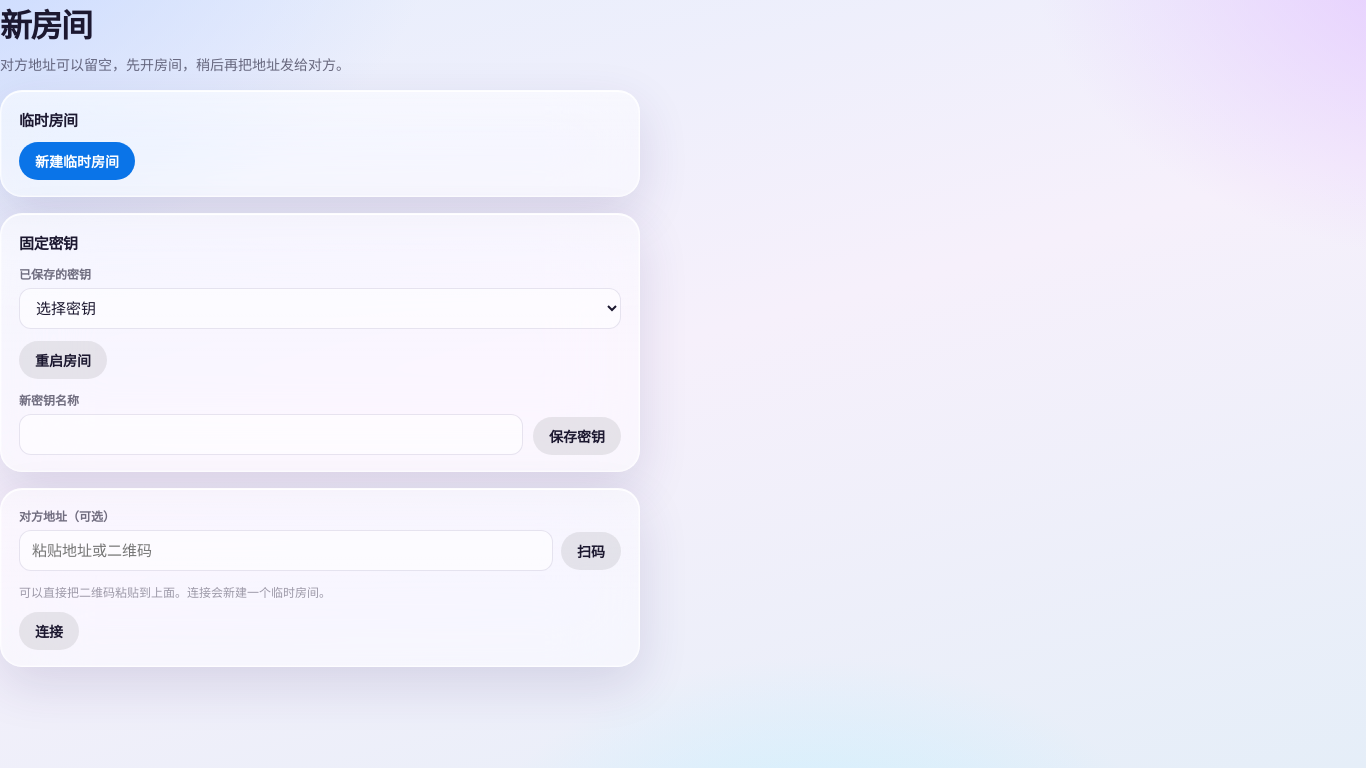
Test: lobby peer paste › accepts a Tailcat address pasted from the scan dialog
Click the button "扫码" at (591, 550), box [561,532,621,570]
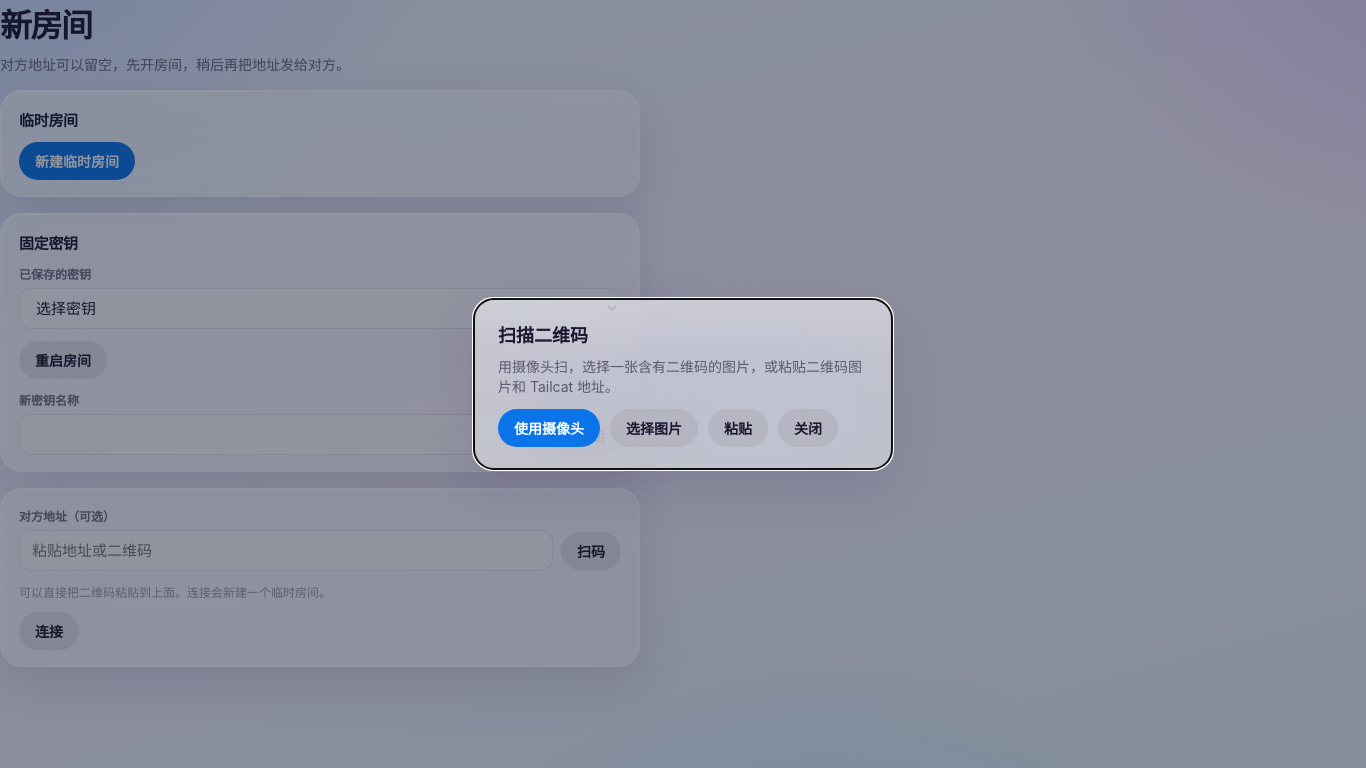
Type keys "{Control>}v{/Control}"
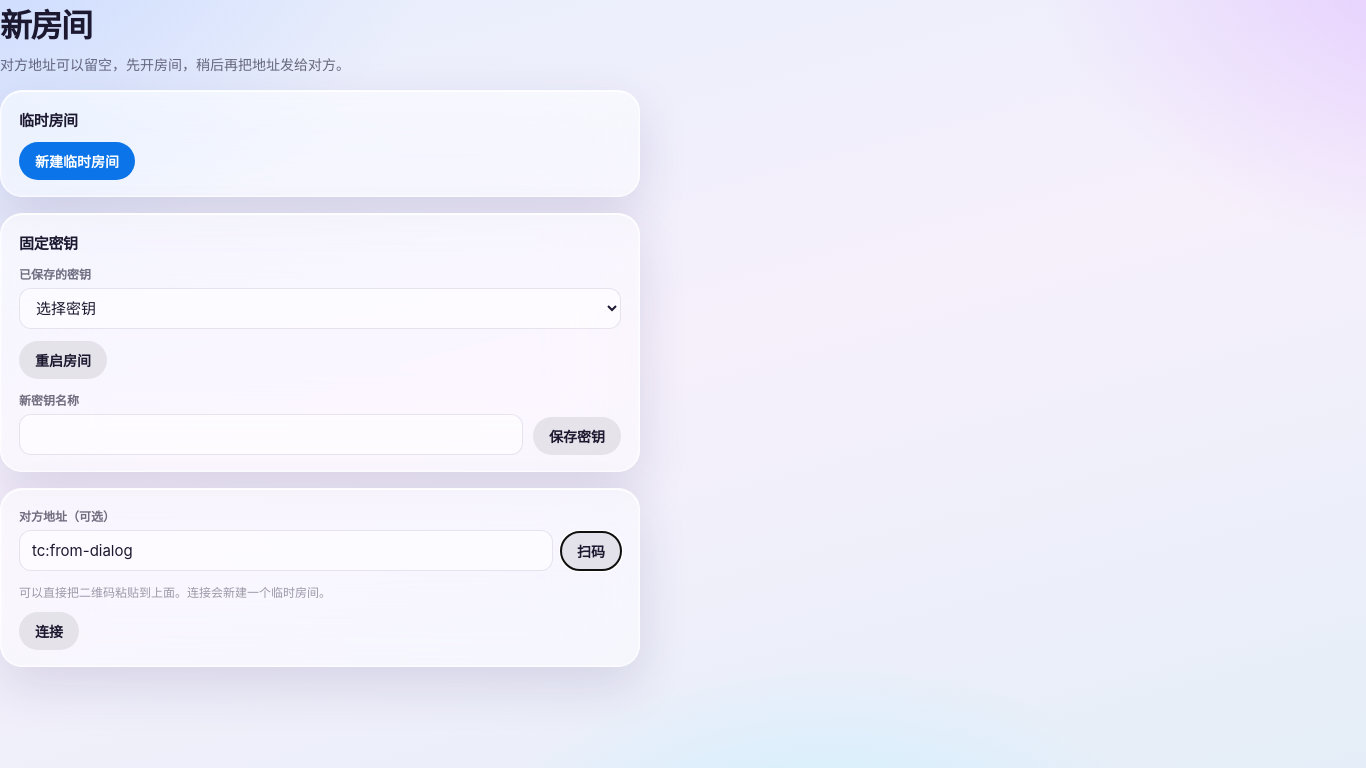
Check: the field labelled "对方地址（可选）" holds "tc:from-dialog"
Check: the dialog is gone
Clear the field labelled "对方地址（可选）" at (286, 550), box [19,530,553,571]
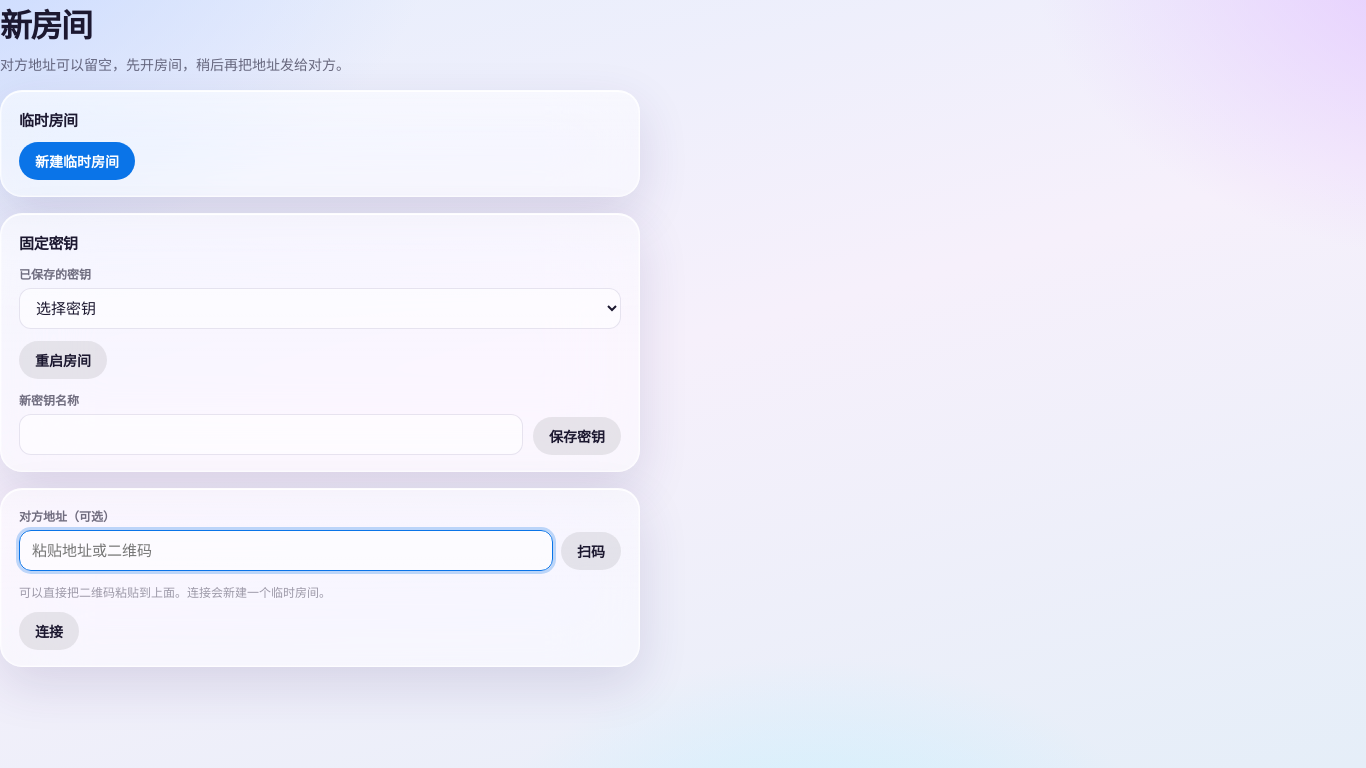
Click the button "扫码" at (591, 550), box [561,532,621,570]
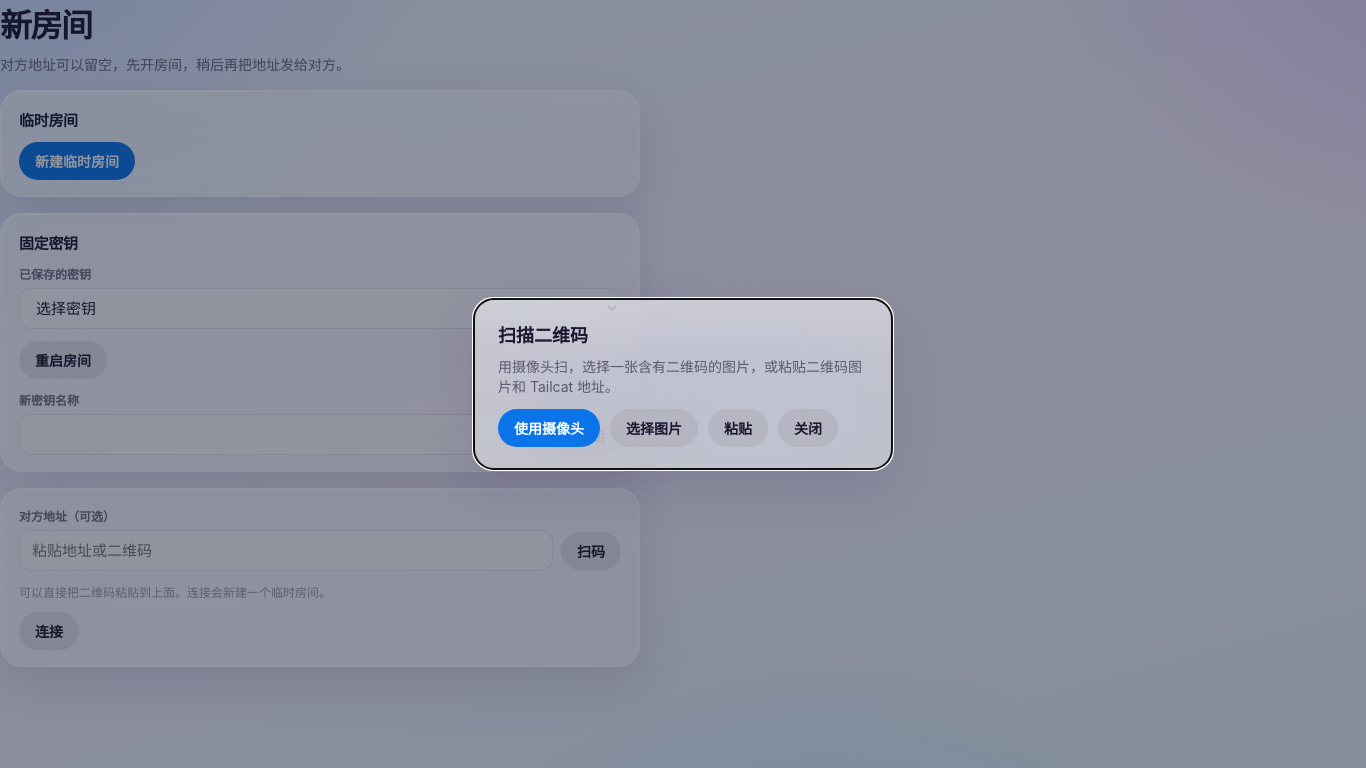
Type keys "{Meta>}v{/Meta}"
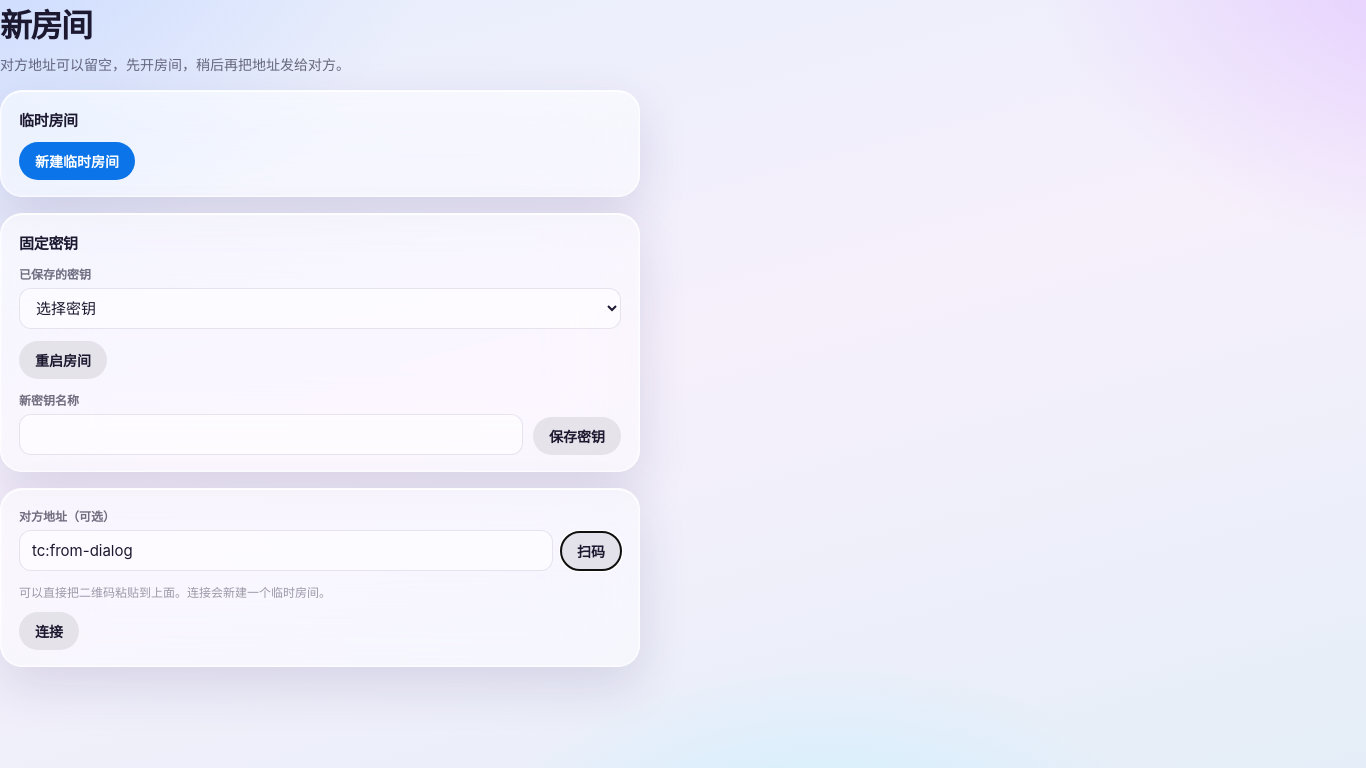
Check: the field labelled "对方地址（可选）" holds "tc:from-dialog", box [19,530,553,571]
